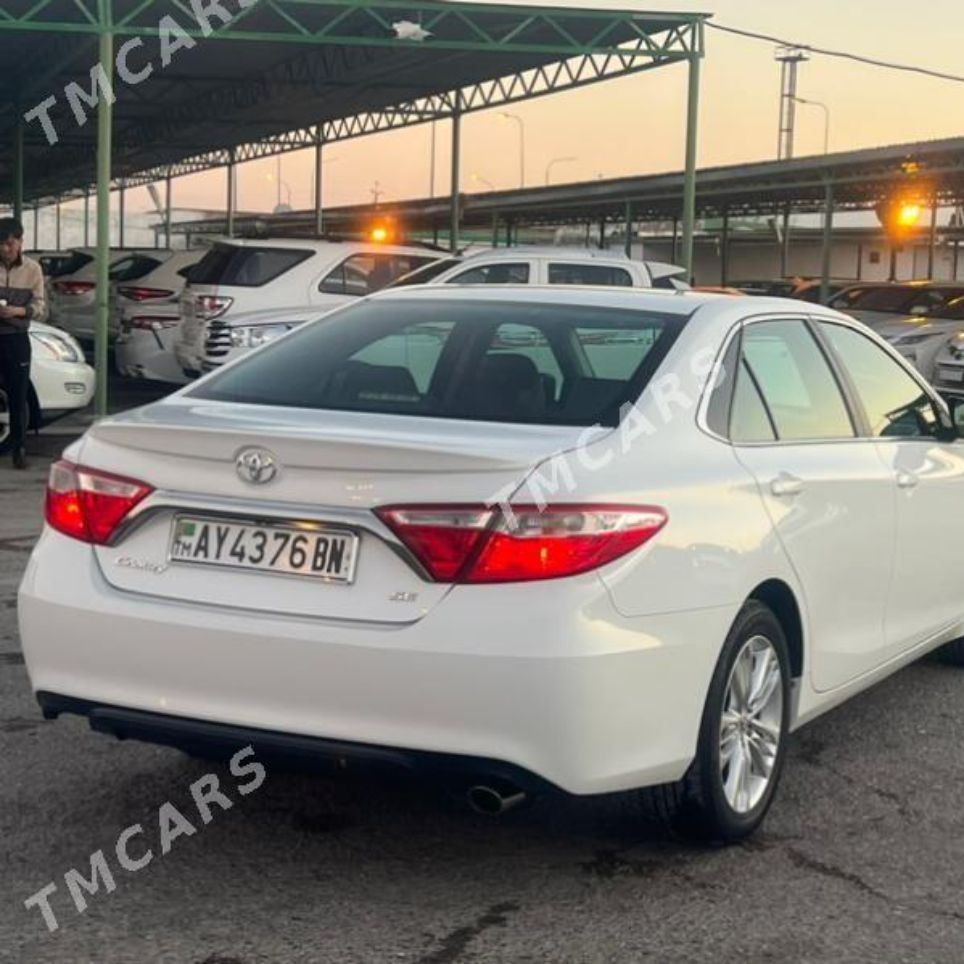license plate: (170, 513, 354, 578)
truck: (17, 274, 963, 851)
